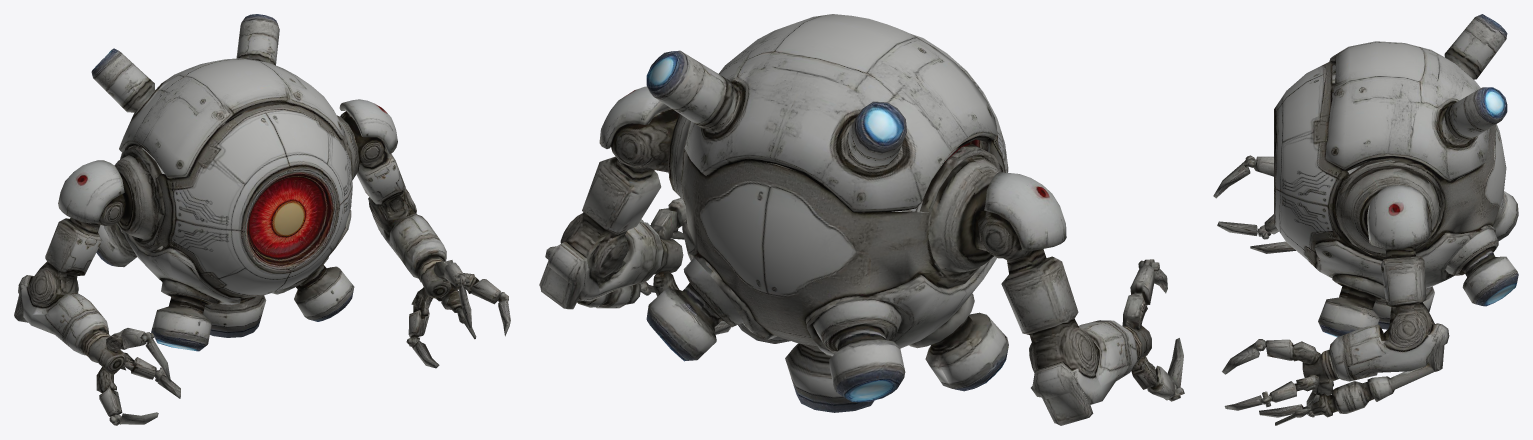
The model's file is Drone.glb.
The picture shows the model from 3 angles, left to right: view 1: azimuth 30°, elevation 25°; view 2: azimuth 150°, elevation 25°; view 3: azimuth 270°, elevation 25°; orthographic projection. The views are drawn at different scales.
Visible parts, largest first — view 1: tripo_node_ca03e7ce-b66d-4f0f-9c1d-f67a684fdeb0; view 2: tripo_node_ca03e7ce-b66d-4f0f-9c1d-f67a684fdeb0; view 3: tripo_node_ca03e7ce-b66d-4f0f-9c1d-f67a684fdeb0.
Boxes of the visible parts, left/top/right/bottom form: tripo_node_ca03e7ce-b66d-4f0f-9c1d-f67a684fdeb0: left=14, top=14, right=510, bottom=425; tripo_node_ca03e7ce-b66d-4f0f-9c1d-f67a684fdeb0: left=539, top=14, right=1184, bottom=425; tripo_node_ca03e7ce-b66d-4f0f-9c1d-f67a684fdeb0: left=1213, top=14, right=1518, bottom=425.
Bounding box in the file's own units: 0.998 × 0.6738 × 0.627.
1 material, 1 textured.
